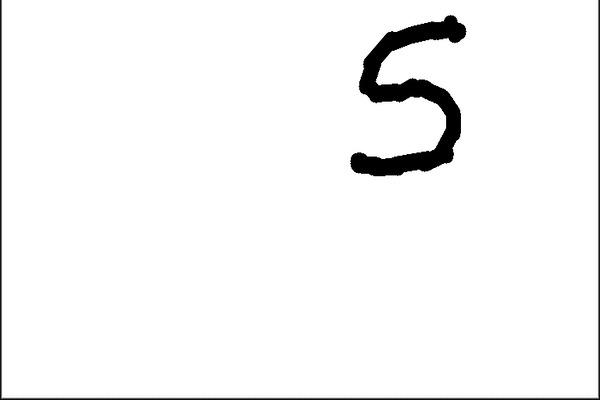S: (344, 11, 474, 180)
